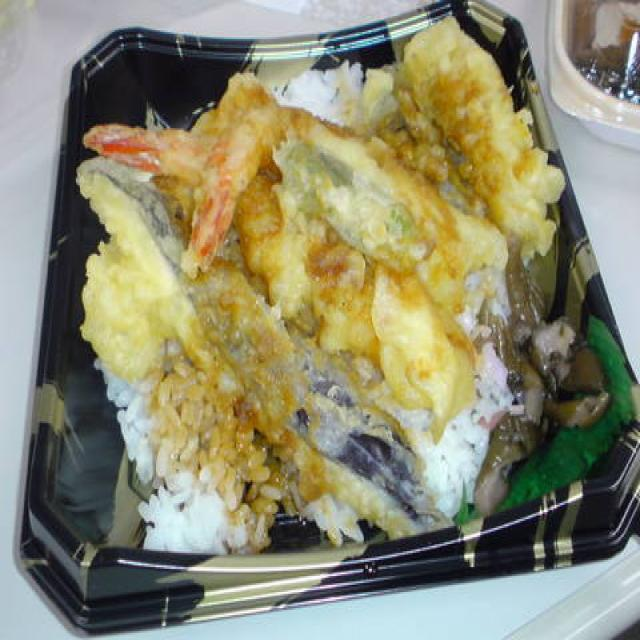熟制海鲜: (33, 6, 636, 604)
